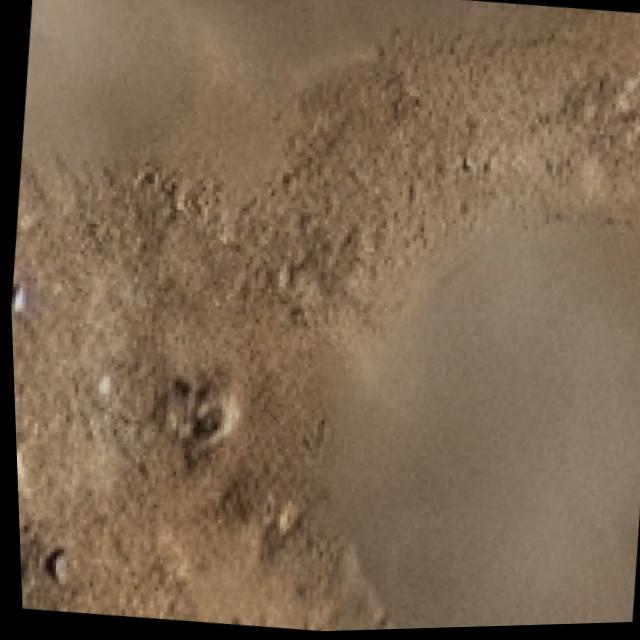Crater: (162, 73, 640, 636)
